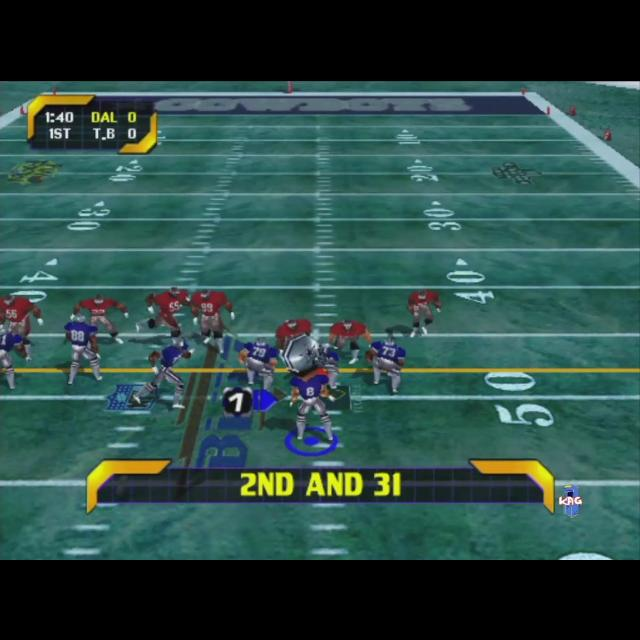player: (284, 336, 332, 442), (132, 338, 196, 410), (135, 285, 191, 339), (64, 311, 104, 385), (190, 288, 236, 352), (73, 292, 129, 344), (0, 292, 44, 358), (365, 336, 407, 392), (238, 336, 280, 390), (328, 318, 372, 364), (0, 322, 30, 388), (406, 288, 442, 336), (274, 317, 314, 357), (312, 341, 344, 389)
